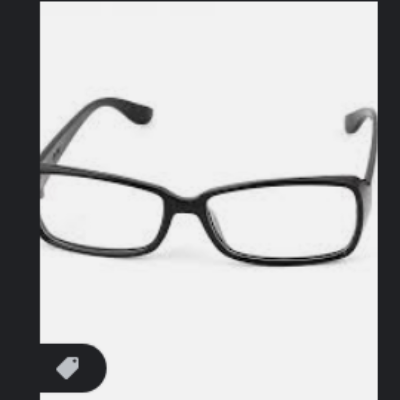glasses: (40, 96, 379, 288)
